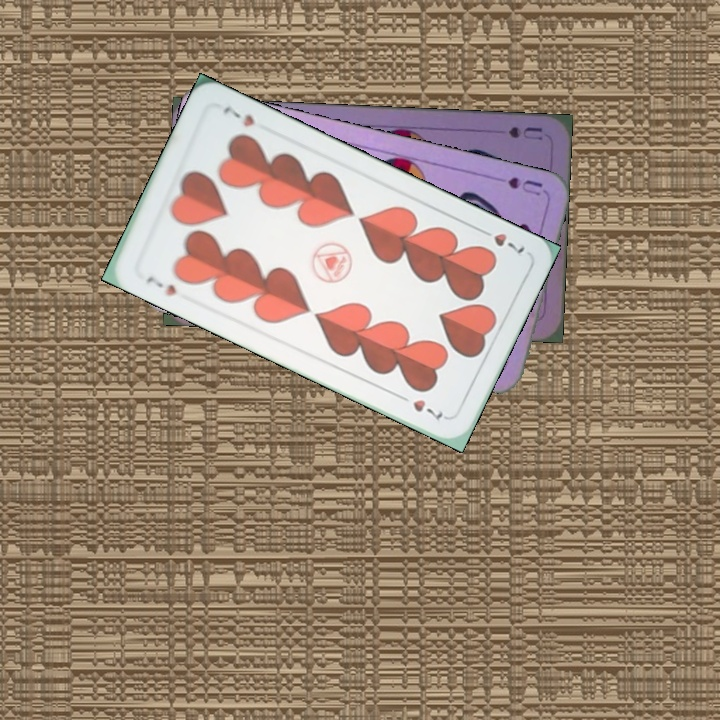H7: (474, 223, 528, 258), (142, 272, 180, 299)
SU: (503, 173, 546, 198), (504, 123, 545, 143)
